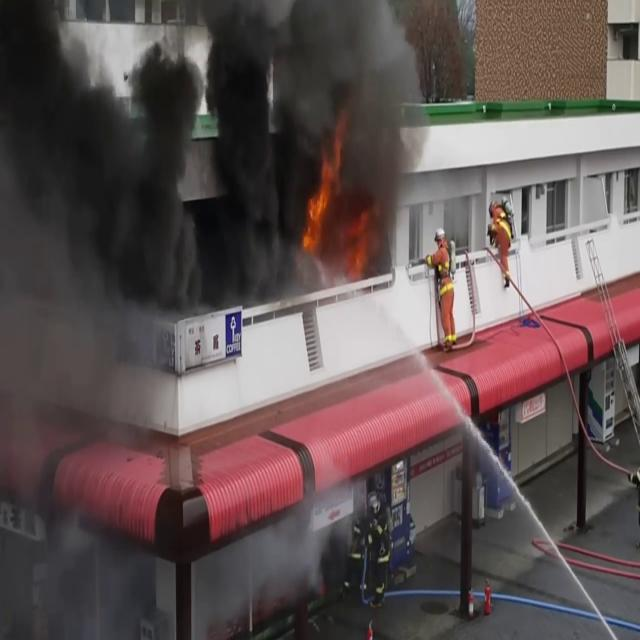Smoke: (2, 0, 430, 327)
